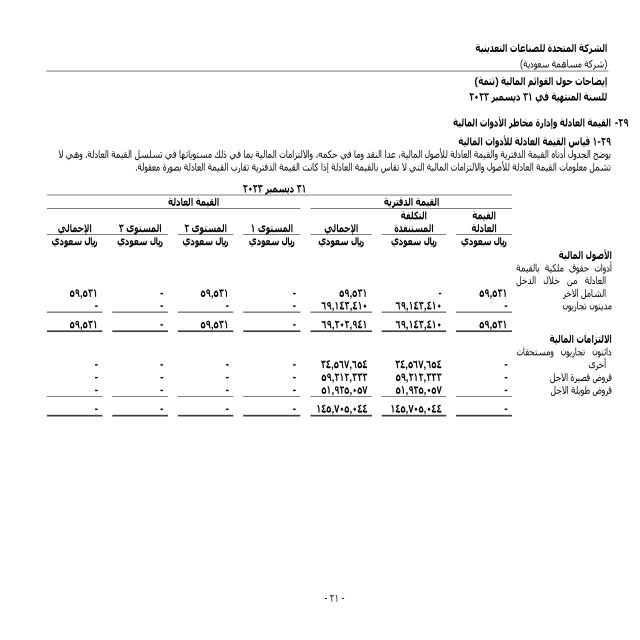notes: (467, 72, 614, 90)
table: (35, 180, 620, 454)
